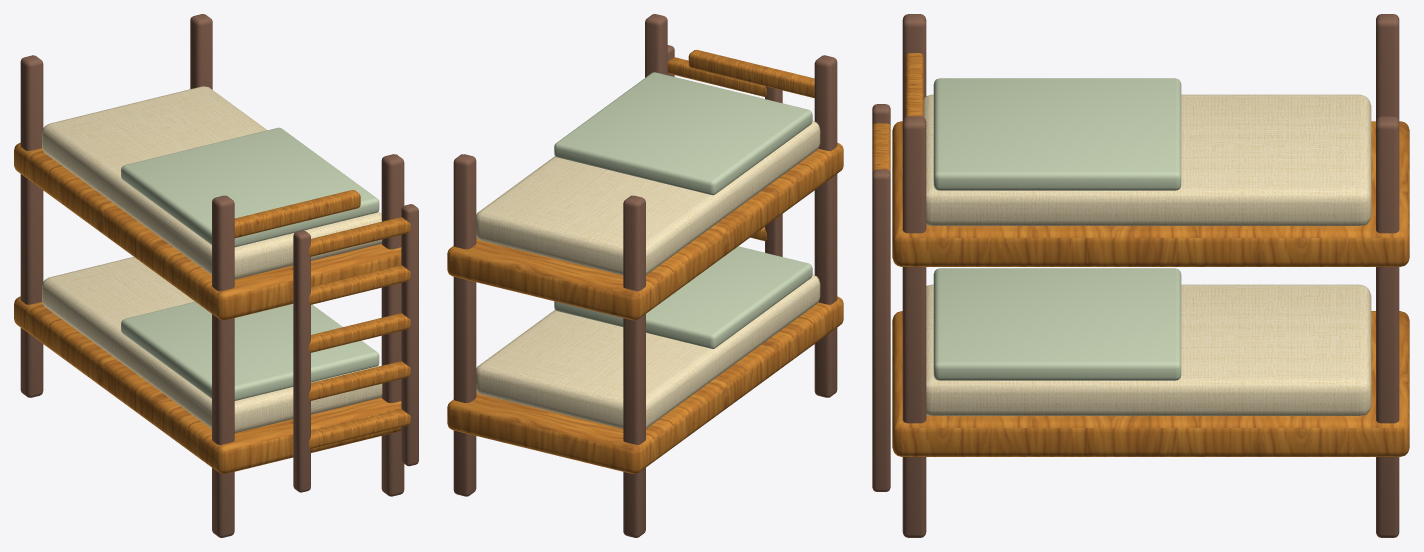
File: bunk-bed.glb
3 renders of one model, left to right at view 1: azimuth 30°, elevation 25°; view 2: azimuth 150°, elevation 25°; view 3: azimuth 270°, elevation 25°, orthographic. The views are drawn at different scales.
Visible parts, largest first — view 1: bunk-bed; view 2: bunk-bed; view 3: bunk-bed.
Part boxes in pixels (x1,y1,x2,y2): bunk-bed: (14,14,418,537); bunk-bed: (447,14,843,537); bunk-bed: (872,14,1409,537).
Size of the model in its own units: 1.05 by 1.75 by 2.05.
4 materials, 2 textured.
